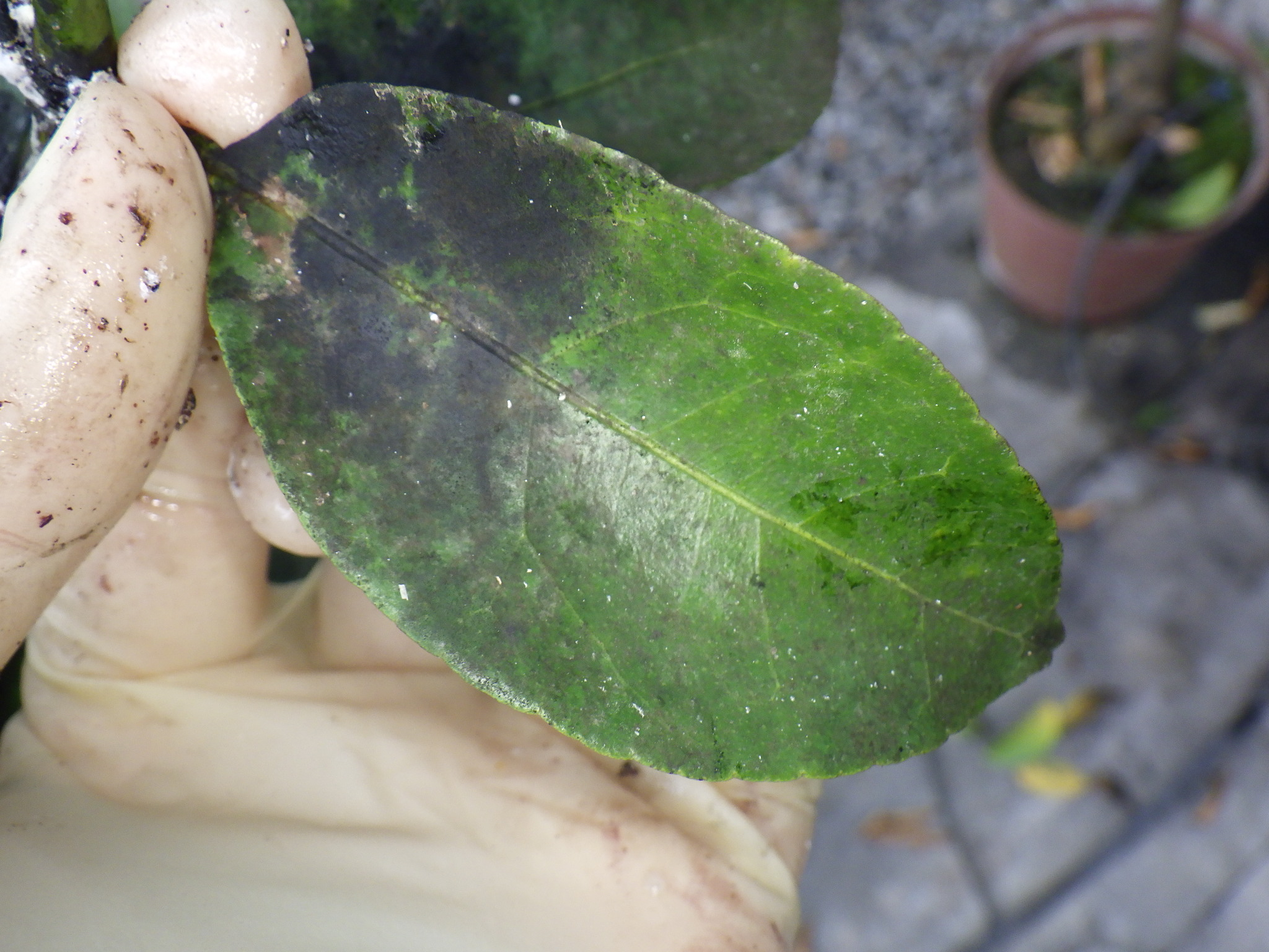Sooty_Mold: (204, 84, 1061, 780)
